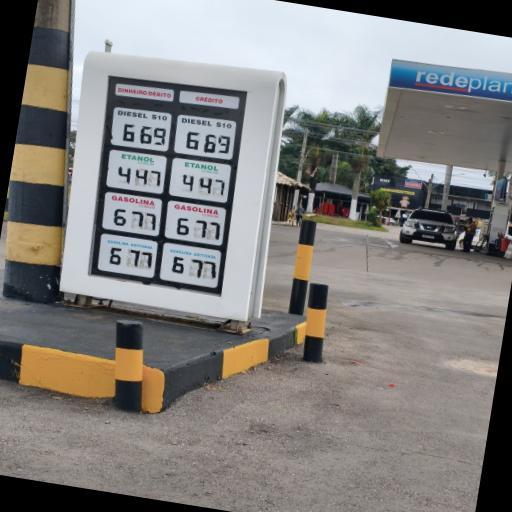ETANOL: (117, 150, 160, 167)
GASOLINA AD: (102, 236, 156, 253)
GASOLINA C: (106, 192, 160, 210)
S10: (112, 108, 172, 123)
placa: (80, 73, 177, 303)
preco: (116, 122, 168, 149), (108, 165, 163, 190), (110, 206, 158, 232), (104, 246, 154, 270)
